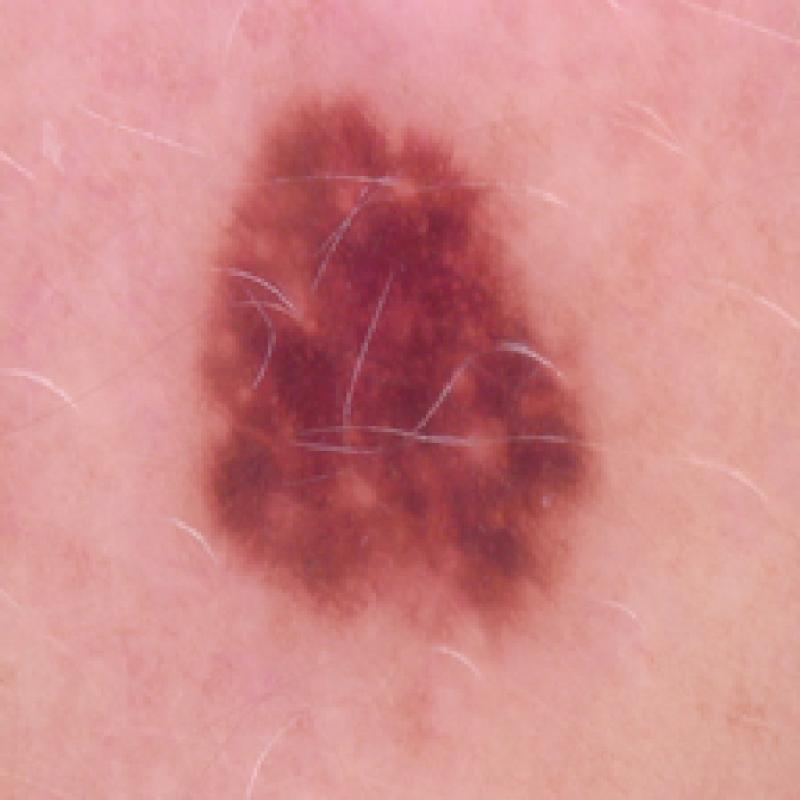benign: (184, 80, 620, 649)
